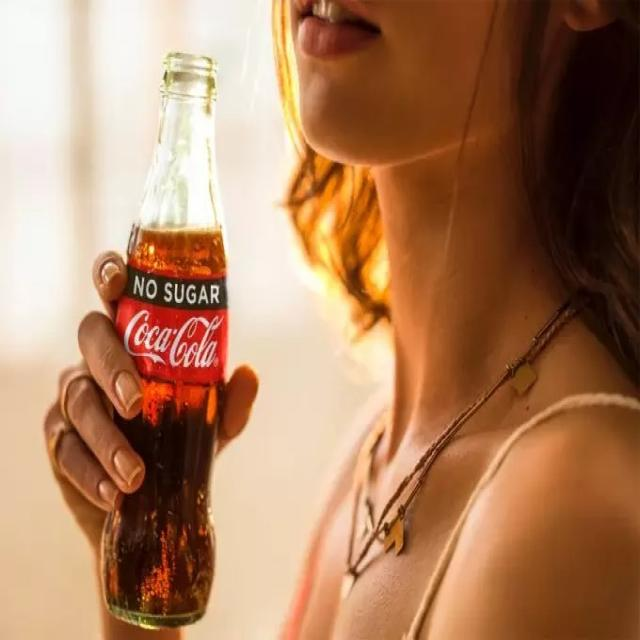coca cola: (121, 302, 228, 379)
